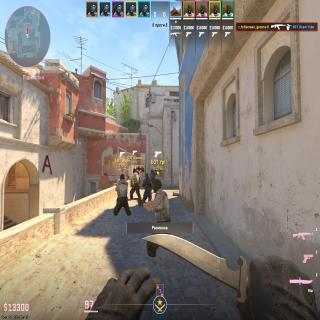CT-Body: (142, 173, 152, 202), (151, 166, 158, 180)
CT-Head: (145, 173, 149, 179)
T-Body: (152, 177, 170, 223), (115, 174, 129, 217), (132, 169, 140, 200)
T-Head: (152, 178, 162, 192), (120, 174, 125, 180), (132, 168, 136, 174)
